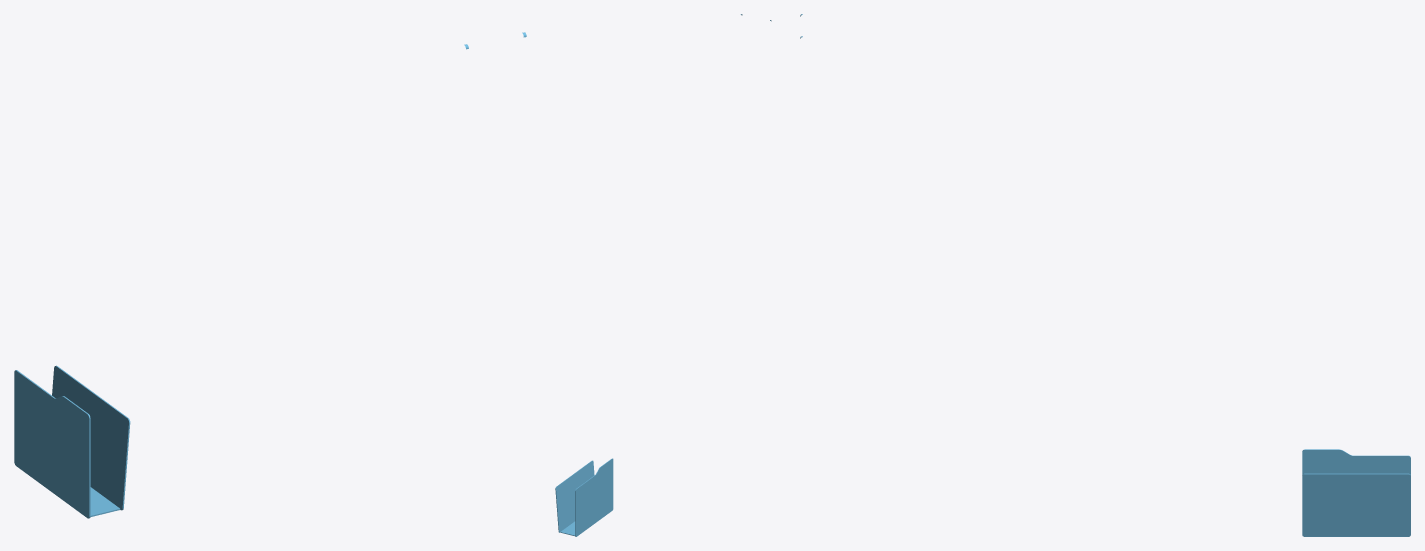
File: 1203-wide.glb
The picture shows the model from 3 angles, left to right: view 1: azimuth 30°, elevation 25°; view 2: azimuth 150°, elevation 25°; view 3: azimuth 270°, elevation 25°; orthographic projection. The views are drawn at different scales.
Visible parts, largest first — view 1: Cube.002; view 2: Cube.002; view 3: Cube.002.
Boxes of the visible parts, box(x1,y1,x2,y2) form: Cube.002: box(14, 32, 526, 518); Cube.002: box(555, 14, 771, 536); Cube.002: box(800, 14, 1410, 536).
Bounding box in the file's own units: 3.49 × 26.37 × 27.99.
